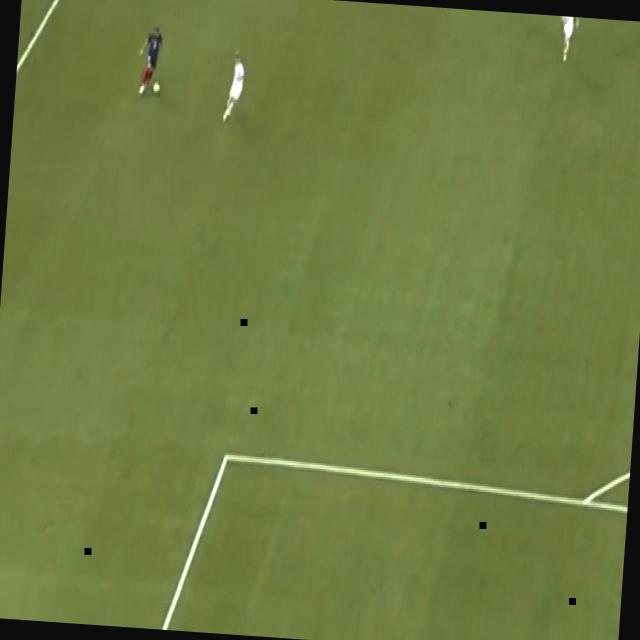ball: (151, 79, 162, 95)
player-white: (136, 20, 166, 98), (221, 51, 247, 126), (558, 16, 580, 63)
